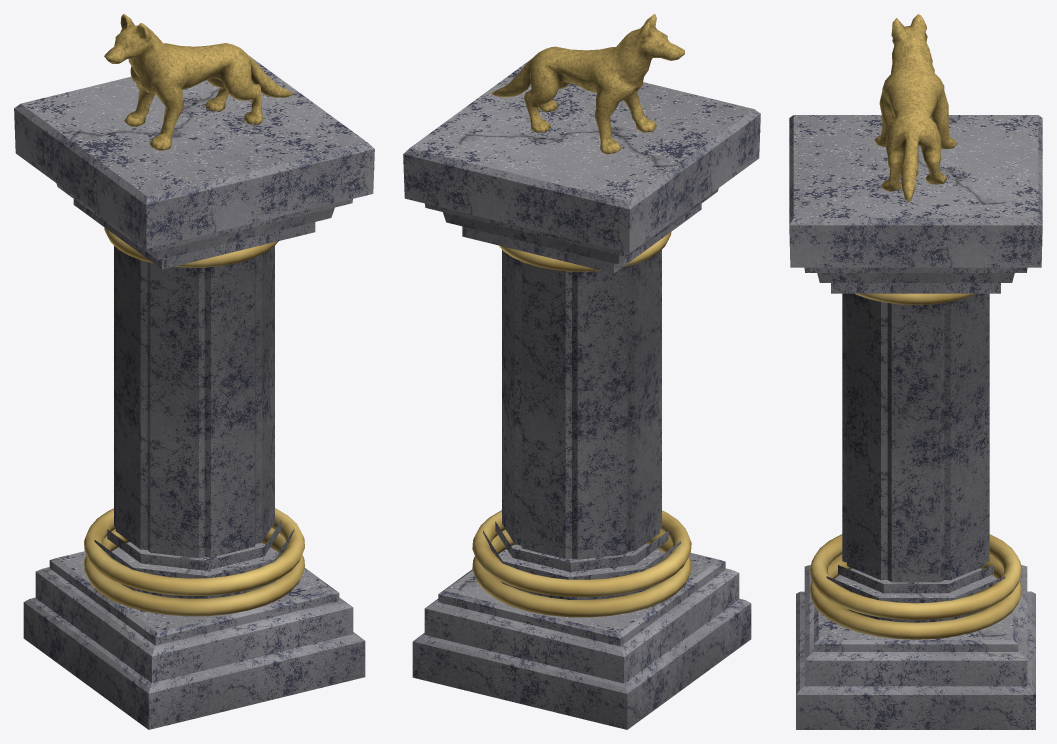
Rendered from mm6_deco_pedestal_wolf.glb.
The picture shows the model from 3 angles, left to right: view 1: azimuth 30°, elevation 25°; view 2: azimuth 150°, elevation 25°; view 3: azimuth 270°, elevation 25°; orthographic projection. The views are drawn at different scales.
Parts seen in each view (by area): view 1: StatuetteWolf; view 2: StatuetteWolf; view 3: StatuetteWolf.
Boxes of the visible parts, x1=… form: StatuetteWolf: x1=14, y1=14, x2=374, y2=729; StatuetteWolf: x1=403, y1=14, x2=760, y2=729; StatuetteWolf: x1=789, y1=14, x2=1042, y2=729.
Size of the model in its own units: 0.8225 by 2.27 by 0.8225.
3 materials, 3 textured.
